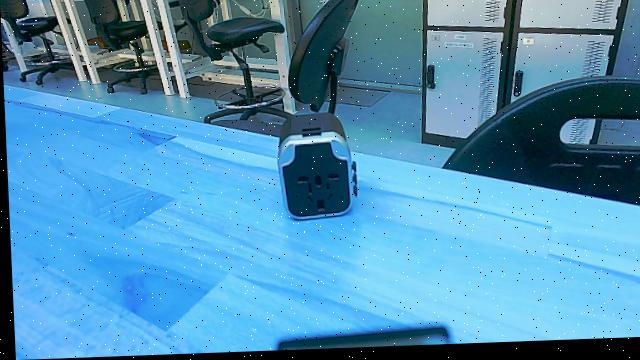adapter: (274, 111, 360, 231)
